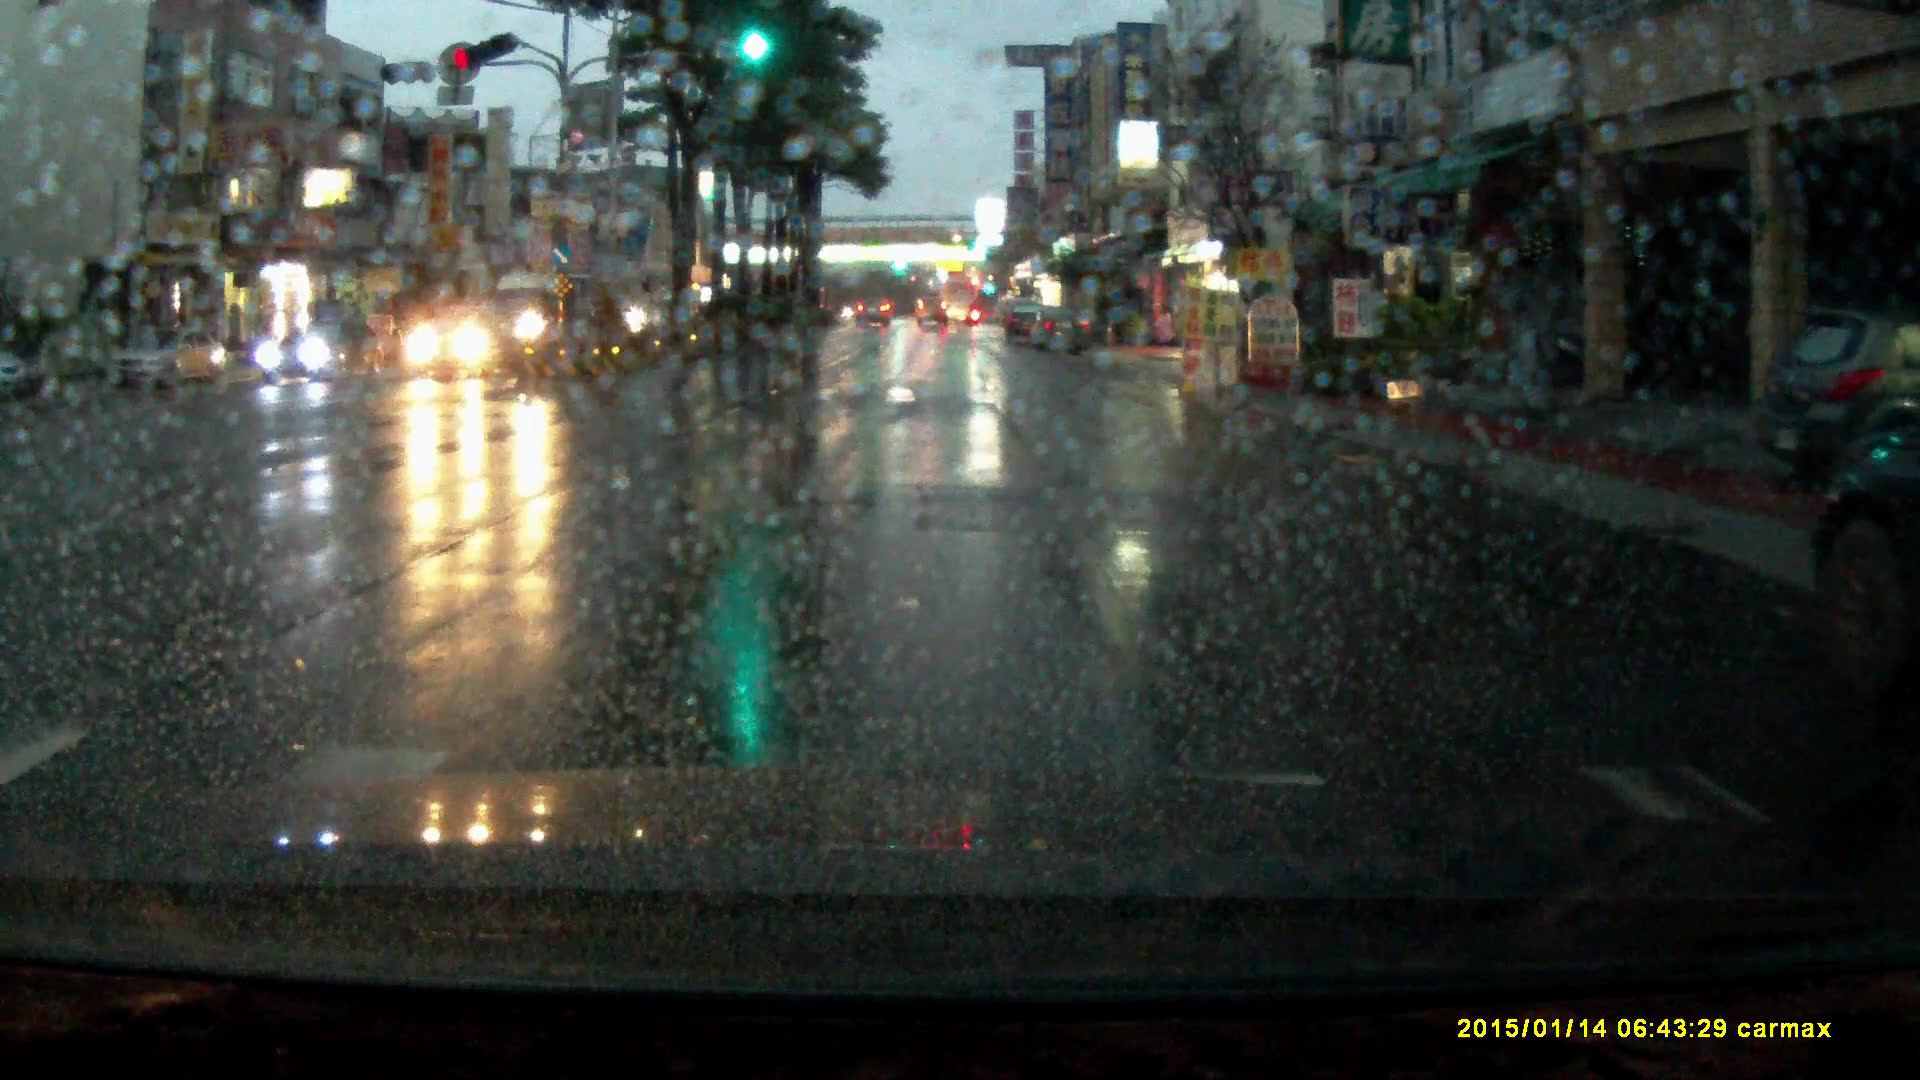vehicle: (1817, 419, 1920, 705), (1750, 310, 1919, 483), (477, 272, 596, 363), (256, 318, 390, 386), (108, 328, 231, 401), (411, 313, 525, 386), (1029, 306, 1097, 357), (1004, 302, 1047, 349), (944, 280, 982, 324), (856, 294, 894, 328), (1, 353, 26, 397), (916, 299, 949, 332)
